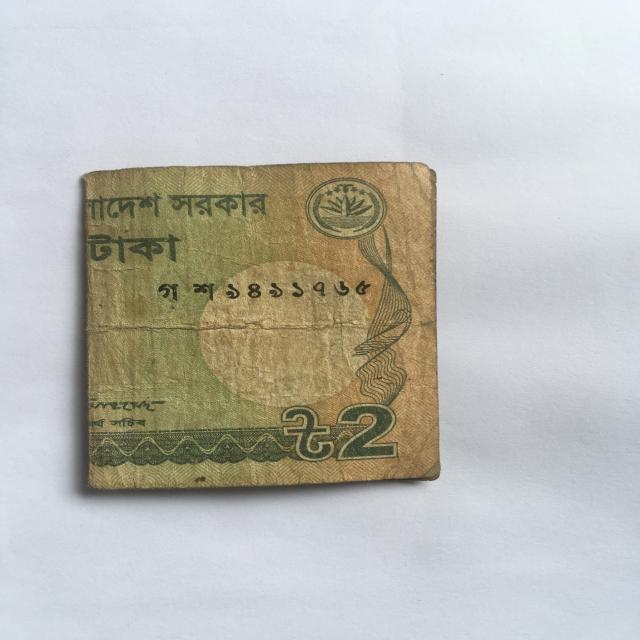Taka: (73, 157, 452, 490)
